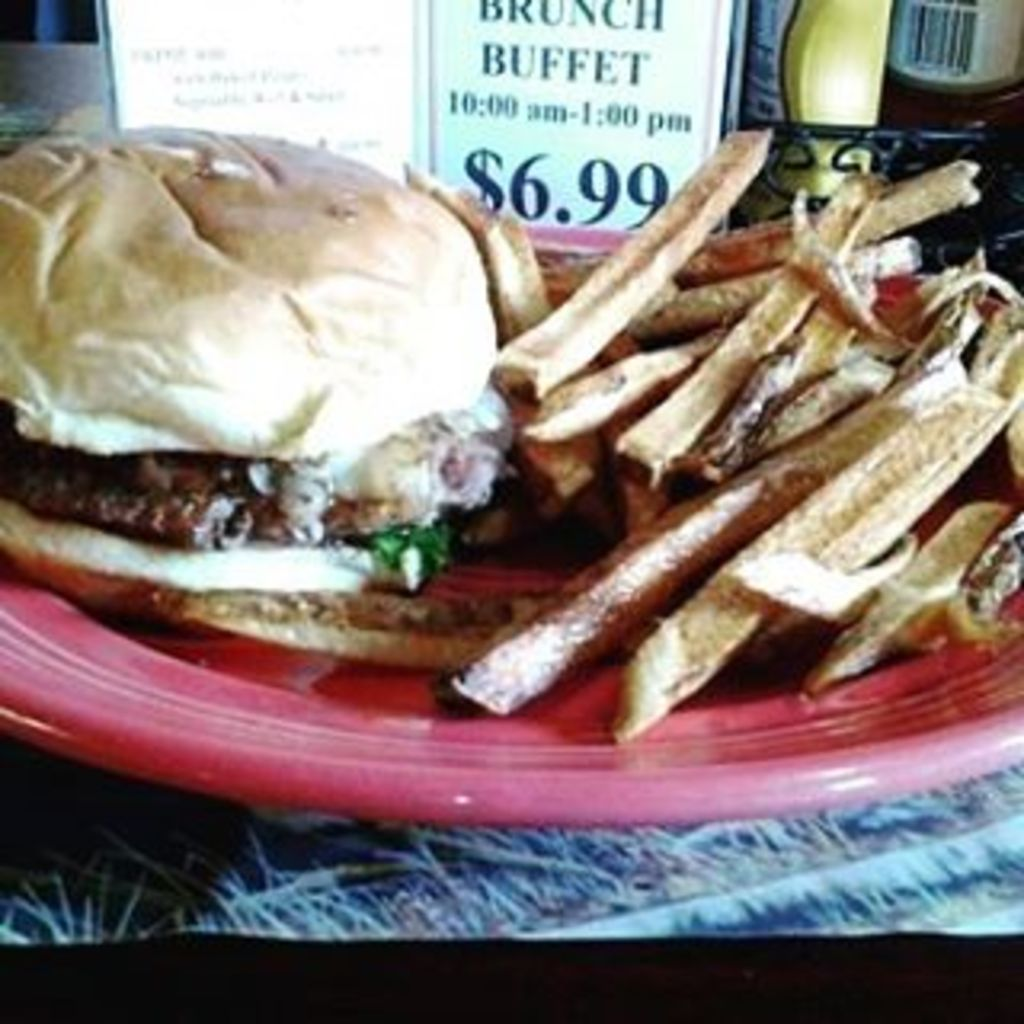French fries: (480, 137, 1011, 697)
